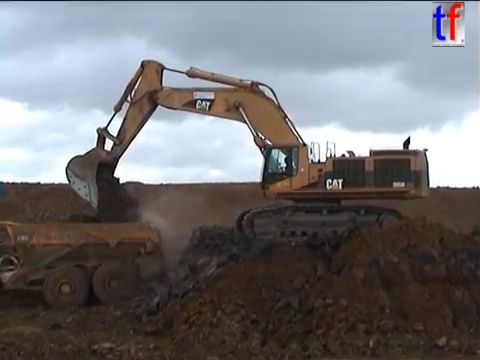excavator: (62, 56, 432, 249)
truck: (1, 218, 162, 310)
